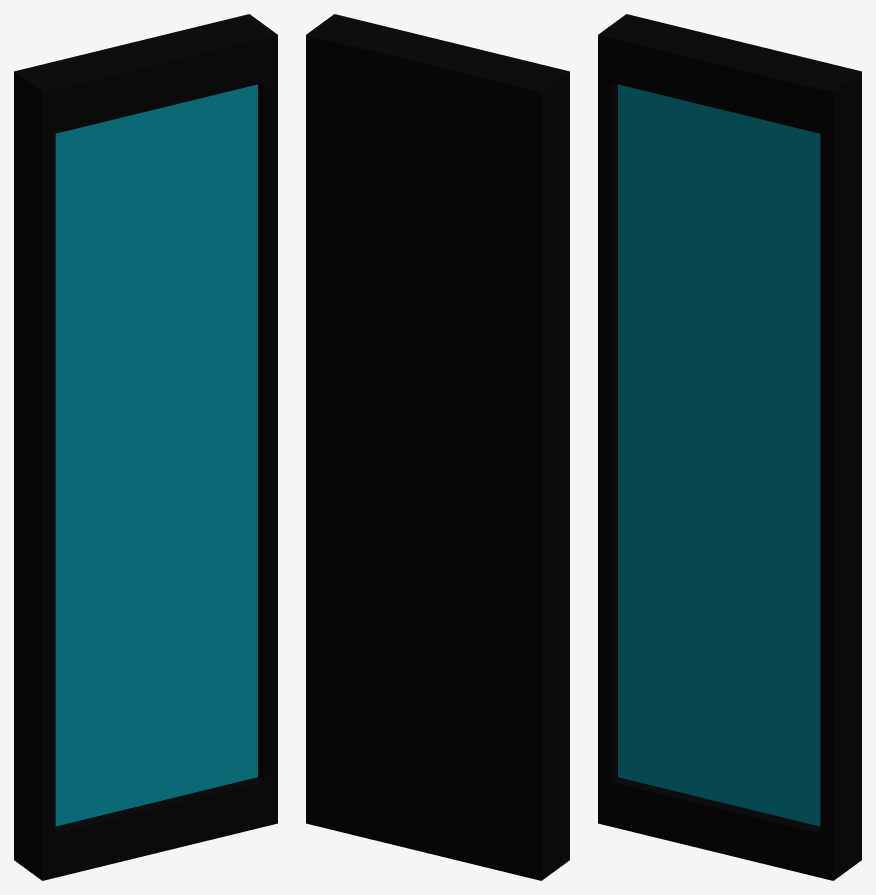
File: Mirror.fbx
The picture shows the model from 3 angles, left to right: view 1: azimuth 30°, elevation 25°; view 2: azimuth 150°, elevation 25°; view 3: azimuth 330°, elevation 25°; orthographic projection.
Parts seen in each view (by area): view 1: pCube1; view 2: pCube1; view 3: pCube1.
Boxes of the visible parts, x1=… form: pCube1: x1=14, y1=14, x2=277, y2=880; pCube1: x1=306, y1=14, x2=569, y2=880; pCube1: x1=598, y1=14, x2=861, y2=880.
Bounding box in the file's own units: 2.1 × 6.73 × 0.4399.
